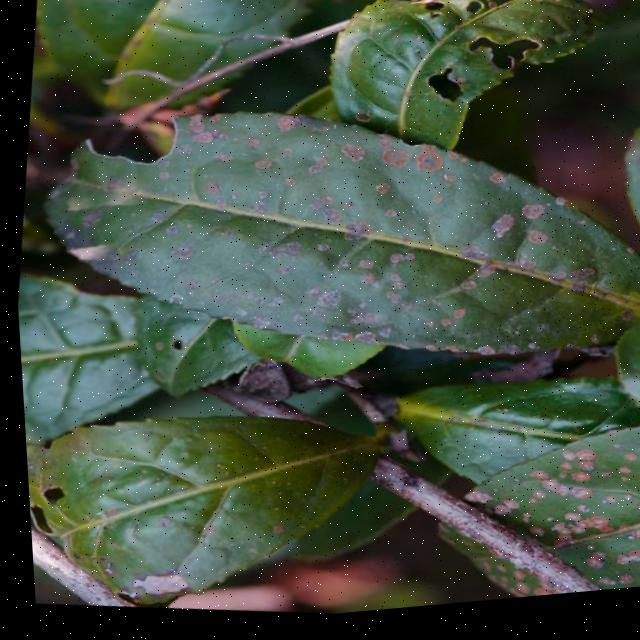Tea algae leaf spot: (119, 116, 547, 378), (432, 438, 630, 611)
